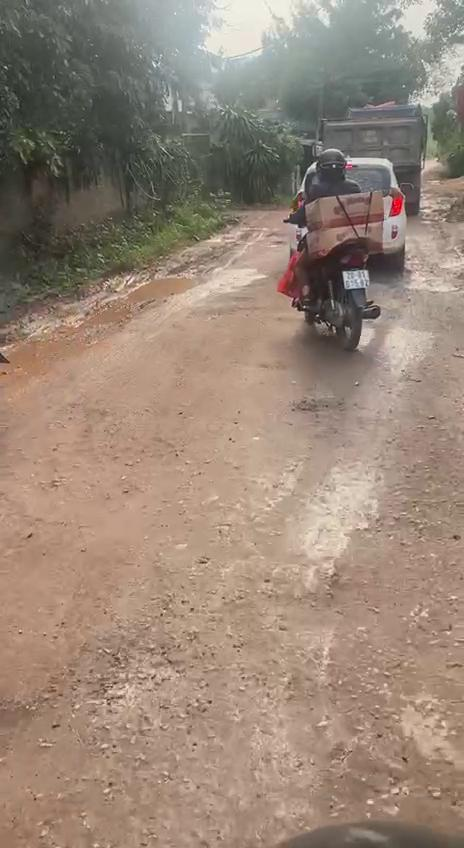pothole: (0, 642, 198, 814), (82, 264, 208, 331)
